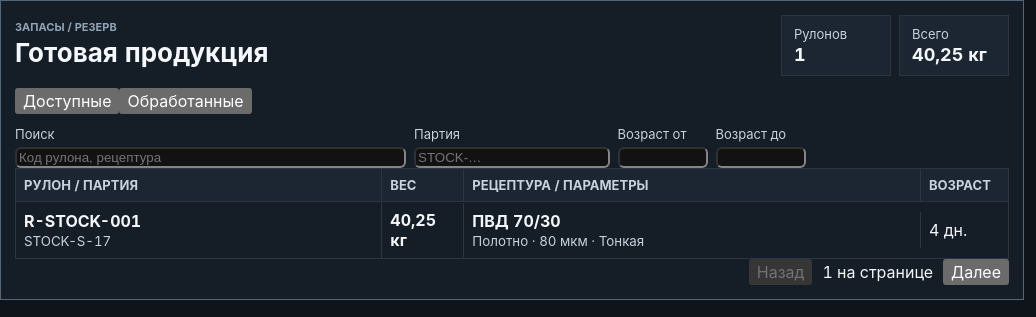
Test: WarehouseFinishedStockPanel › switches to processed with retained text filters and a reset cursor history
The width and height of the screenshot is (1036, 317).
Type "R-STOCK-001" into the field labelled "Поиск" at (210, 158), box [15, 147, 406, 168]
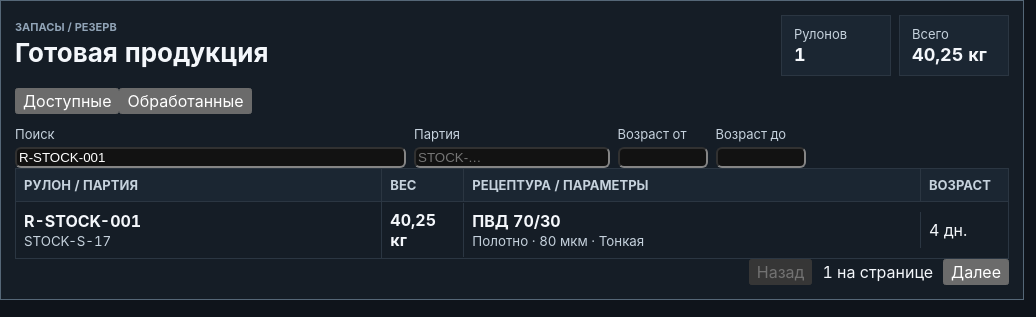
Type "STOCK-S-17" into the field labelled "Партия" at (512, 158), box [414, 147, 610, 168]
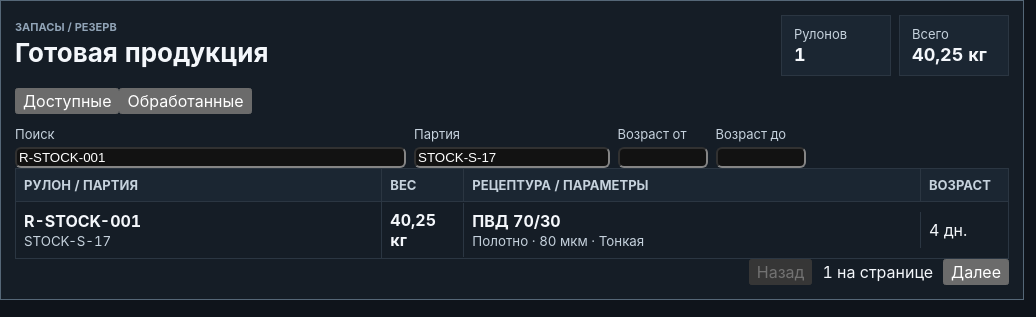
Type "3" into the number field labelled "Возраст от" at (662, 158), box [618, 147, 708, 168]
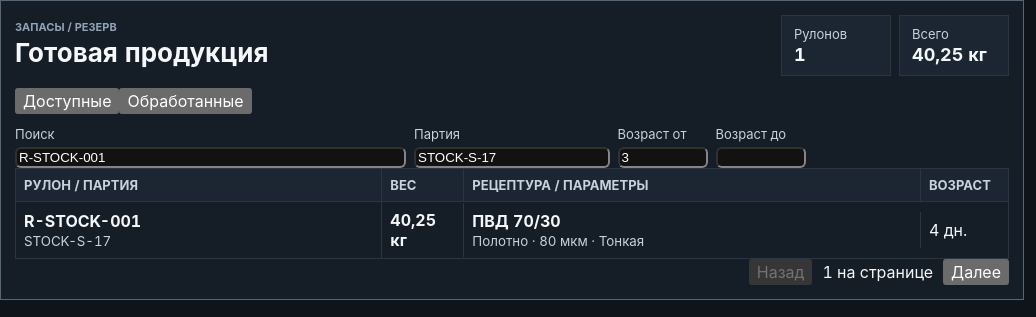
Type "10" into the number field labelled "Возраст до" at (760, 158), box [716, 147, 806, 168]
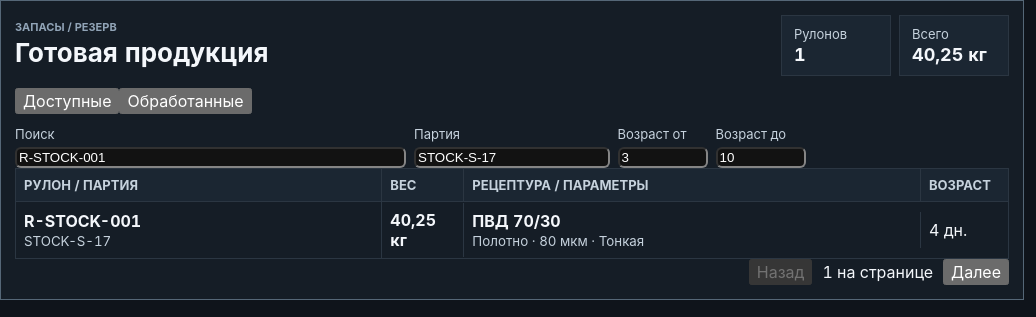
Click the button "Далее" at (976, 272), box [943, 259, 1009, 285]
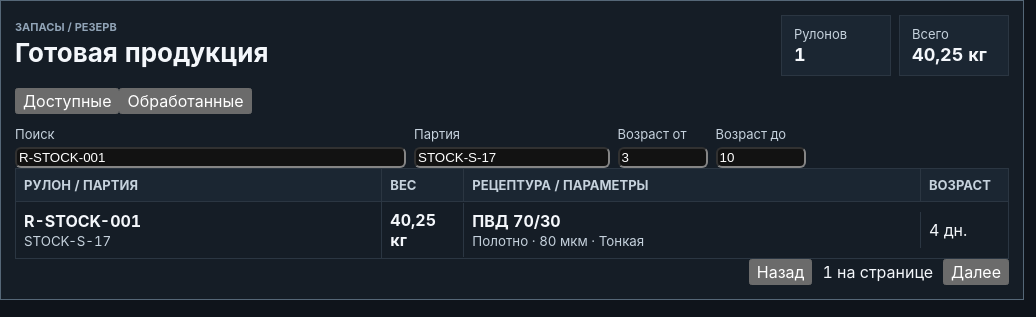
Click the tab "Обработанные" at (186, 101), box [120, 88, 252, 114]
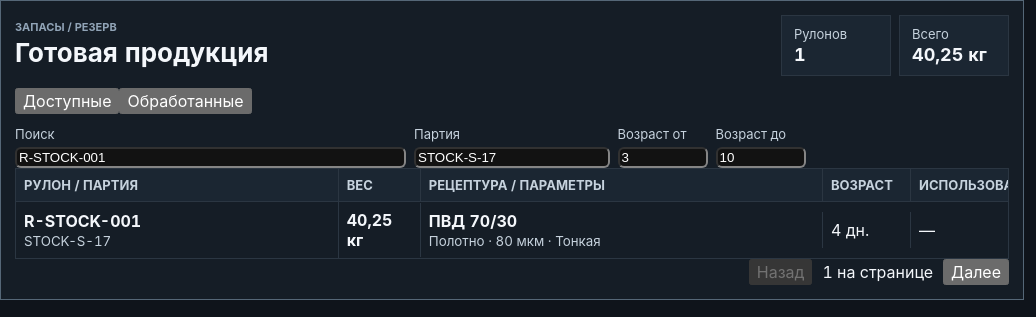
Expected: the button "Назад" is disabled, [749, 259, 812, 285]
